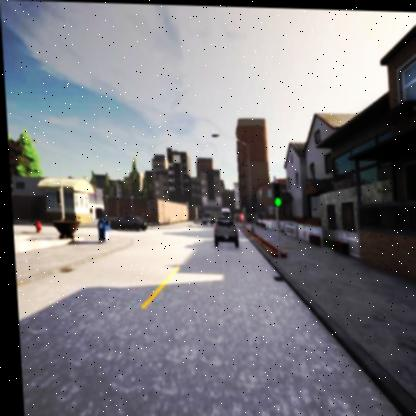vehicle: (208, 218, 236, 244), (109, 214, 146, 231)
